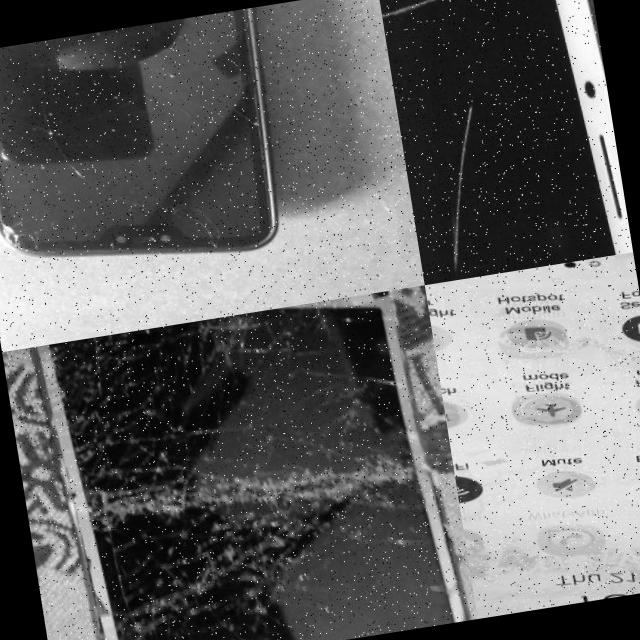scratch: (418, 85, 508, 264), (376, 0, 489, 16)
screen crack: (10, 284, 477, 640), (40, 71, 284, 284), (0, 192, 53, 259)
